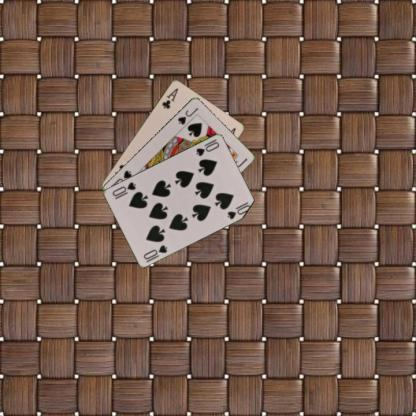10s: (194, 136, 221, 158), (141, 242, 169, 261)
Ac: (159, 85, 179, 110)
Js: (175, 104, 199, 126)
